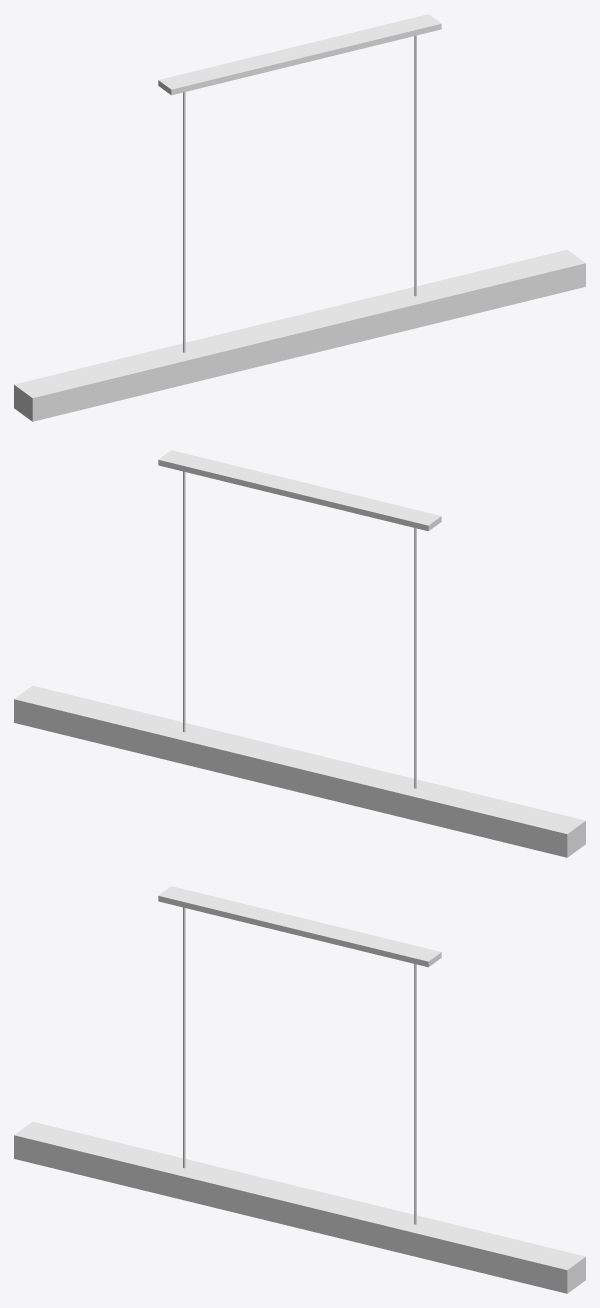
File: cnlounge_lamp4.fbx
3 views of the same model, one above another, from view 1: azimuth 30°, elevation 25°; view 2: azimuth 150°, elevation 25°; view 3: azimuth 330°, elevation 25° (orthographic).
Parts seen in each view (by area): view 1: cnlounge_lamp4; view 2: cnlounge_lamp4; view 3: cnlounge_lamp4.
Part boxes in pixels (x1,y1,x2,y2): cnlounge_lamp4: (14,14,585,421); cnlounge_lamp4: (14,450,585,857); cnlounge_lamp4: (14,886,585,1293).
Bounding box in the file's own units: 0.0173 × 0.00883 × 0.00101.
1 material, 1 textured.
